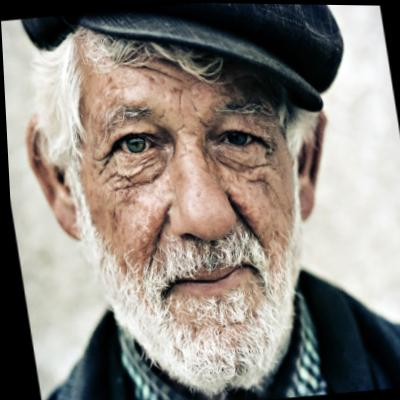netural: (71, 31, 320, 390)
